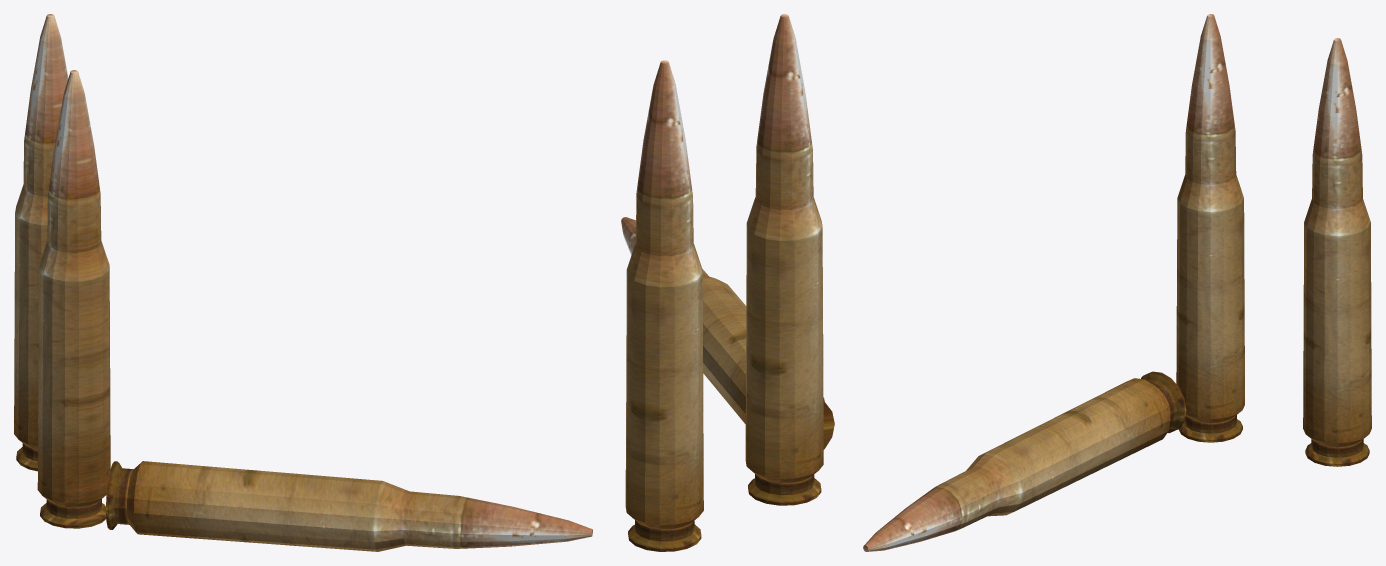
The model's file is bullets.fbx.
The picture shows the model from 3 angles, left to right: view 1: azimuth 30°, elevation 25°; view 2: azimuth 150°, elevation 25°; view 3: azimuth 270°, elevation 25°; orthographic projection. The views are drawn at different scales.
Visible parts, largest first — view 1: bullets; view 2: bullets; view 3: bullets.
Part boxes in pixels (x1,y1,x2,y2): bullets: (14,14,592,551); bullets: (621,14,834,551); bullets: (863,14,1371,551).
Bounding box in the file's own units: 23.24 × 27 × 29.81.
